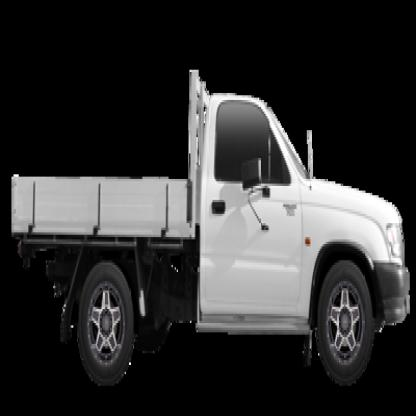light_vehicle: (8, 53, 413, 414)
